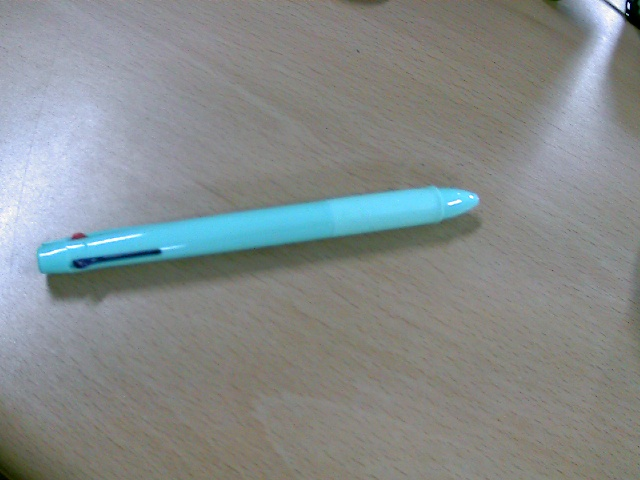pen: (18, 110, 581, 377)
